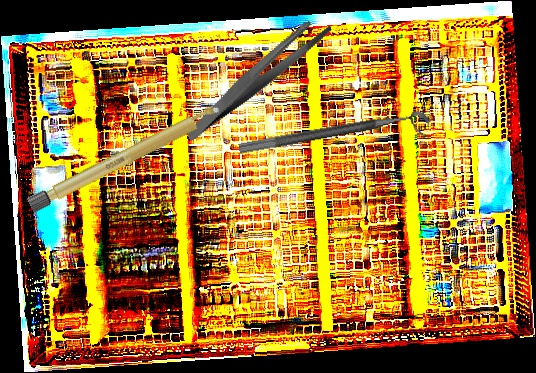Dressing Forceps: (165, 13, 350, 142)
Fixation Ring: (237, 108, 434, 171)
Scalpel Handle: (26, 101, 225, 214)
